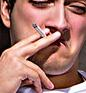smoke: (32, 23, 49, 42)
